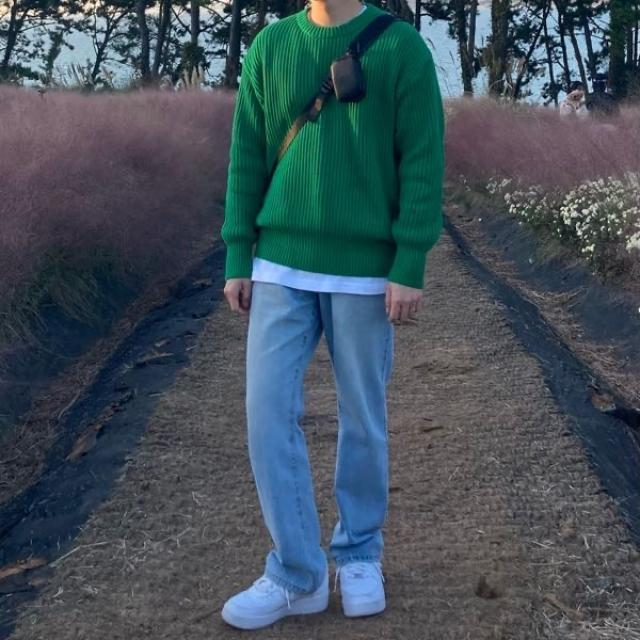denimpants: (248, 271, 394, 598)
sweater: (229, 4, 451, 290)
